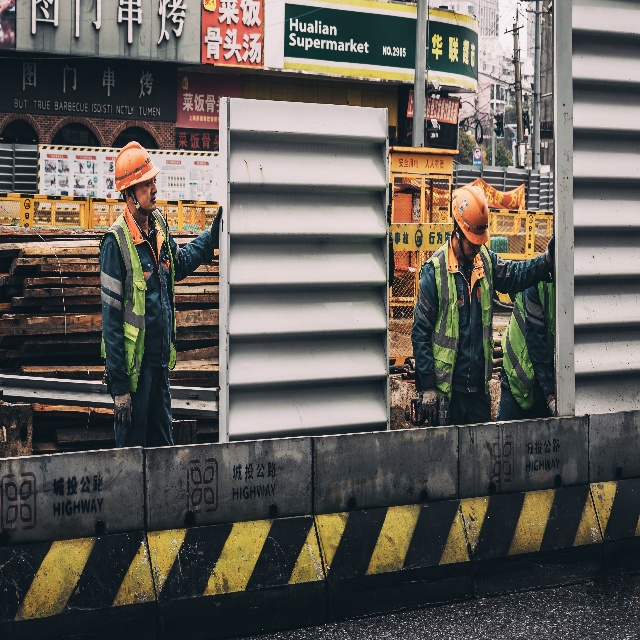Guantes: (113, 390, 131, 425), (420, 388, 438, 422), (545, 235, 557, 268), (211, 205, 221, 243), (546, 394, 556, 415)
